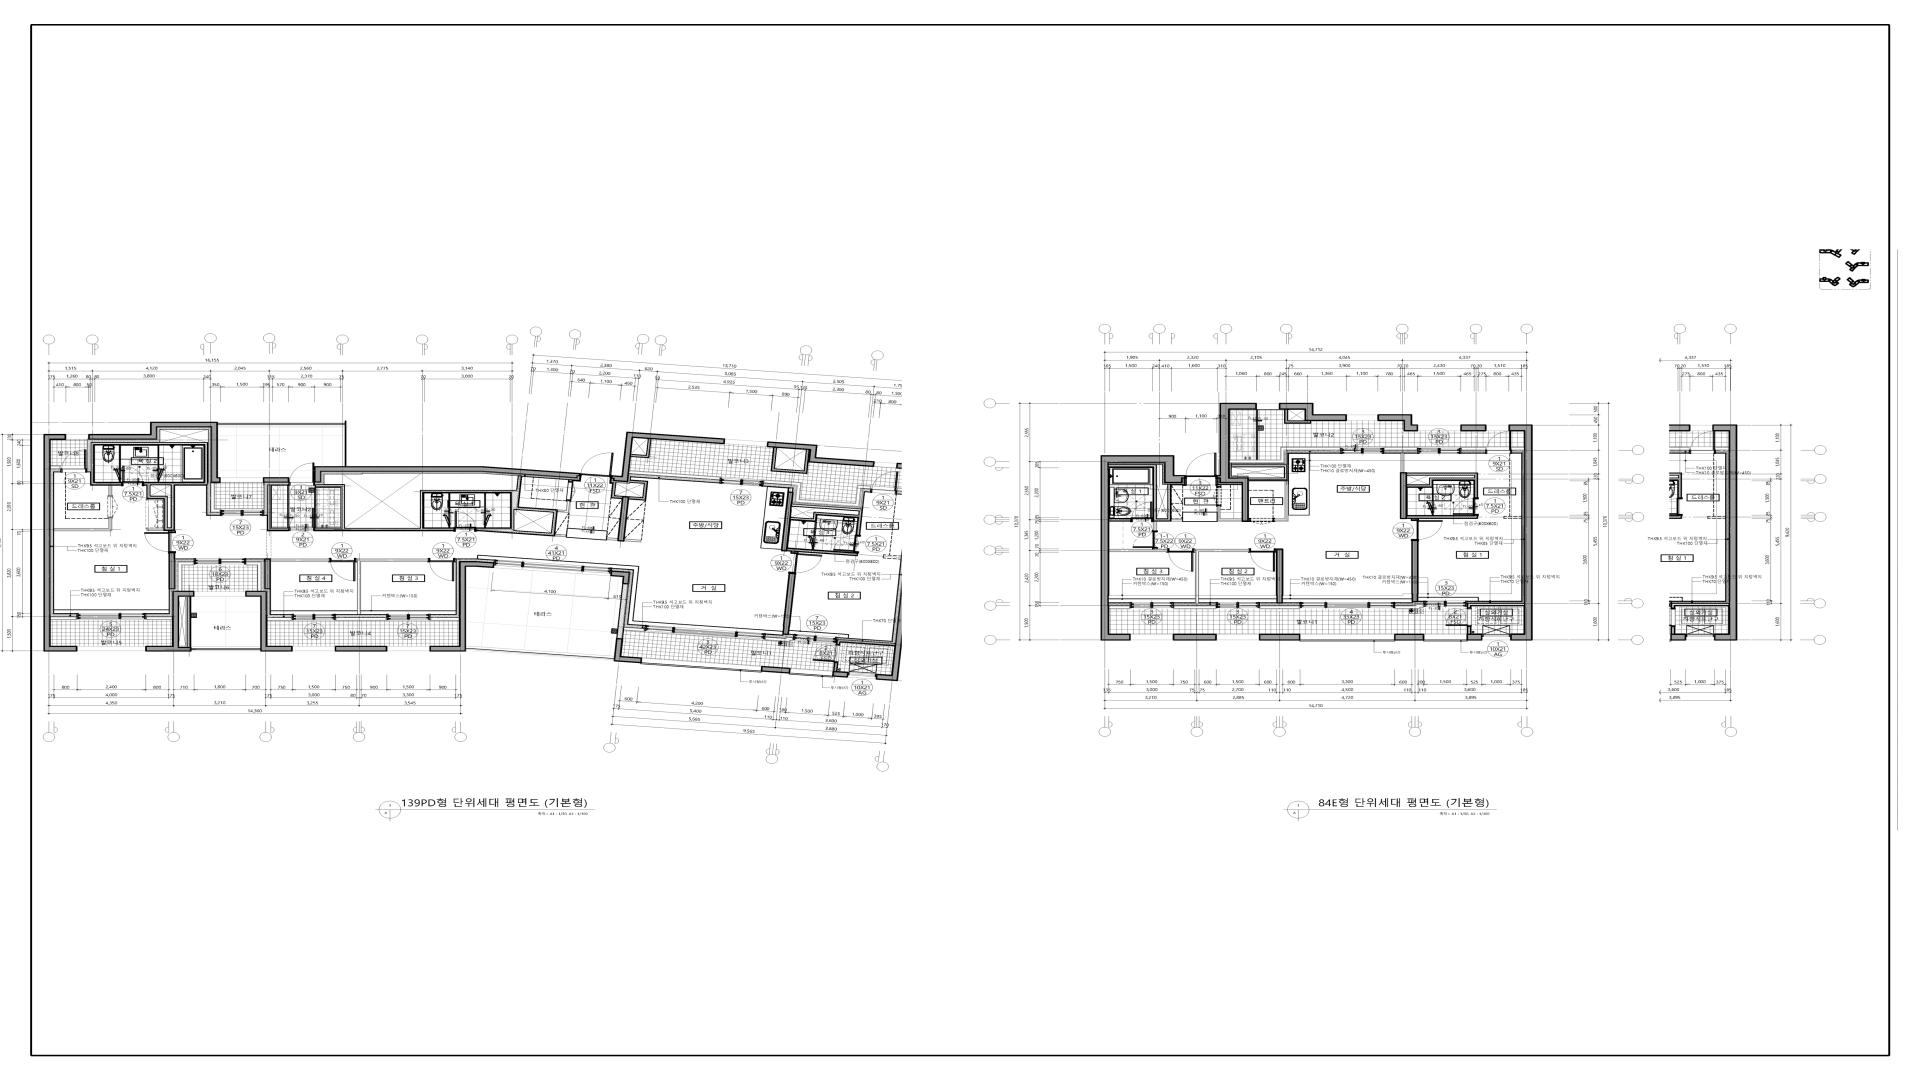door: (579, 450, 615, 484), (1185, 452, 1217, 487), (789, 551, 823, 575), (144, 531, 177, 554), (870, 469, 899, 495), (1411, 520, 1443, 541), (330, 558, 357, 582), (429, 558, 456, 582), (1167, 549, 1195, 572), (1249, 549, 1276, 572), (61, 450, 87, 473), (289, 508, 315, 531), (1486, 431, 1511, 454), (833, 533, 861, 553), (812, 644, 840, 663), (290, 463, 314, 485), (1453, 497, 1480, 516), (1445, 608, 1472, 626), (1130, 501, 1153, 522), (121, 465, 144, 487), (1133, 530, 1158, 549), (454, 512, 476, 531), (108, 496, 119, 518), (1249, 518, 1274, 525)
wall: (1101, 455, 1185, 641), (315, 476, 570, 537), (90, 442, 208, 531), (876, 463, 922, 682), (88, 422, 220, 483), (44, 434, 78, 651), (612, 431, 725, 483), (430, 562, 495, 651), (218, 422, 347, 465), (1509, 425, 1532, 641), (1109, 464, 1183, 530), (1217, 402, 1257, 522), (314, 467, 580, 483), (357, 559, 429, 615), (187, 597, 260, 651), (764, 480, 872, 508), (145, 591, 194, 651), (1195, 549, 1249, 603), (245, 591, 293, 651), (767, 442, 874, 467), (791, 504, 864, 535), (467, 646, 615, 661), (1407, 472, 1478, 497), (1230, 447, 1341, 463), (617, 584, 645, 638), (1279, 404, 1346, 421), (266, 485, 289, 531), (771, 448, 810, 473), (782, 574, 796, 636), (1232, 464, 1287, 480), (629, 471, 720, 480), (781, 488, 794, 551), (54, 518, 112, 531), (615, 638, 642, 663), (1378, 414, 1418, 431), (787, 547, 858, 556), (1274, 481, 1288, 521), (617, 496, 629, 542), (1411, 541, 1419, 601), (178, 562, 194, 591), (247, 562, 261, 591), (629, 480, 649, 501), (632, 439, 651, 459), (836, 640, 895, 646), (1276, 549, 1283, 604), (1217, 506, 1242, 521), (1284, 410, 1311, 423), (1400, 472, 1407, 520), (1466, 603, 1524, 608), (1172, 634, 1217, 641), (1407, 516, 1478, 520), (211, 483, 220, 513), (335, 646, 388, 651), (1259, 634, 1300, 641), (611, 571, 630, 584), (761, 666, 791, 674), (169, 554, 175, 589), (1109, 549, 1167, 553), (264, 558, 270, 589), (1394, 634, 1424, 641), (336, 617, 386, 621), (611, 483, 622, 498), (1460, 425, 1486, 431), (1174, 605, 1216, 609), (1259, 605, 1300, 609), (270, 559, 330, 562), (1395, 604, 1424, 609), (765, 637, 793, 642), (262, 477, 289, 483), (430, 617, 459, 621), (1466, 634, 1482, 641), (832, 671, 848, 678), (268, 617, 291, 621), (1385, 447, 1418, 450), (1109, 605, 1130, 609), (1109, 518, 1130, 522), (1400, 454, 1404, 472), (1461, 447, 1486, 450), (51, 617, 76, 620), (146, 617, 171, 620), (897, 488, 911, 492), (1466, 626, 1472, 634), (625, 539, 641, 542), (833, 663, 839, 671), (108, 485, 112, 496), (51, 465, 61, 469), (1511, 447, 1524, 450), (607, 538, 617, 541), (1217, 485, 1220, 487)
window: (495, 559, 612, 576), (645, 625, 766, 640), (642, 658, 761, 673), (1300, 601, 1395, 608), (1300, 634, 1394, 641), (76, 613, 146, 620), (720, 477, 764, 487), (794, 634, 837, 644), (790, 669, 832, 678), (78, 646, 145, 651), (194, 558, 247, 564), (291, 613, 335, 621), (386, 613, 430, 621), (725, 439, 767, 447), (220, 509, 264, 516), (1130, 601, 1174, 608), (1424, 634, 1466, 641), (1418, 425, 1460, 431), (1424, 600, 1466, 607), (1216, 603, 1259, 608), (1341, 448, 1385, 454), (1418, 448, 1461, 454), (1130, 634, 1172, 640), (1217, 634, 1259, 640), (220, 477, 262, 483), (293, 646, 335, 651), (388, 646, 430, 651), (195, 592, 245, 596), (848, 673, 877, 679), (1346, 415, 1377, 421), (1257, 404, 1279, 410), (1486, 425, 1509, 431), (874, 462, 897, 468), (1482, 634, 1510, 640), (66, 435, 88, 439)
